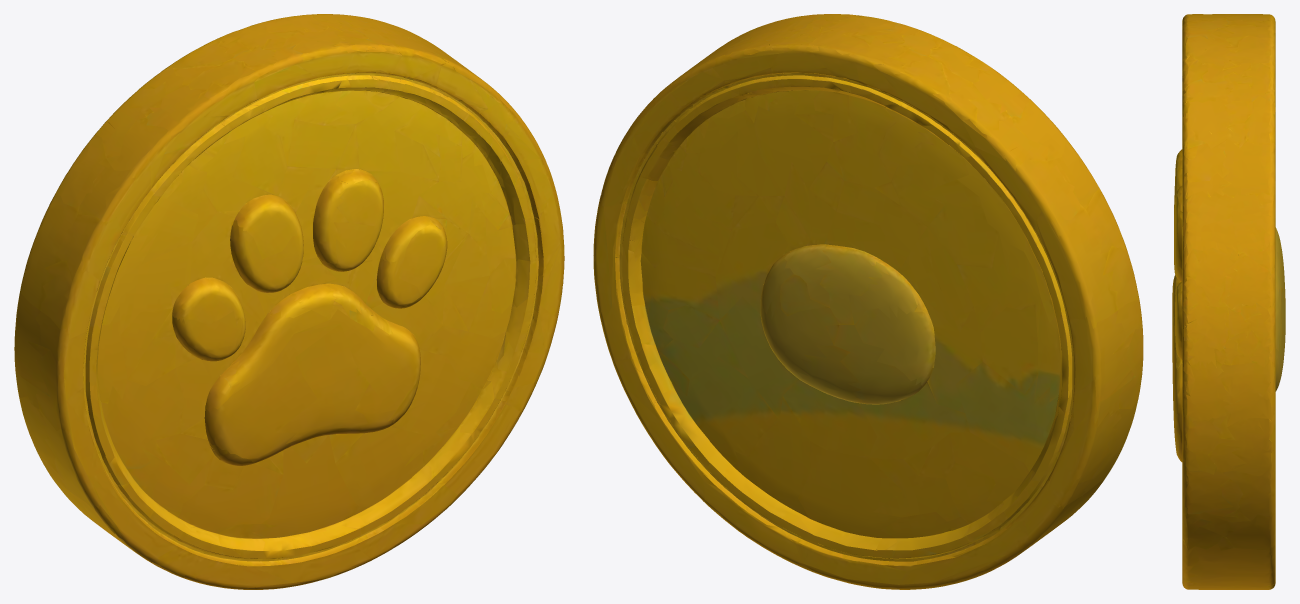
The model's file is school-foxcoin-v1.glb.
3 renders of one model, left to right at view 1: azimuth 30°, elevation 25°; view 2: azimuth 150°, elevation 25°; view 3: azimuth 270°, elevation 25°, orthographic.
Bounding box in the file's own units: 1.9 × 1.9 × 0.375.
1 material, 1 textured.
